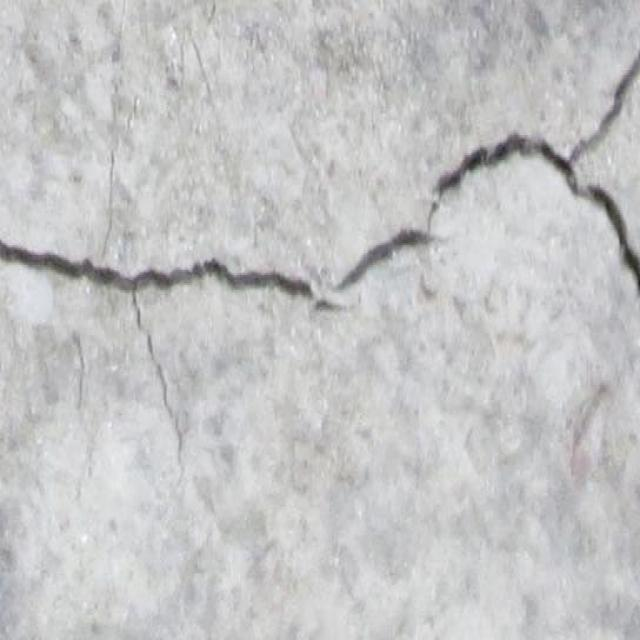crack: (1, 13, 639, 485)
